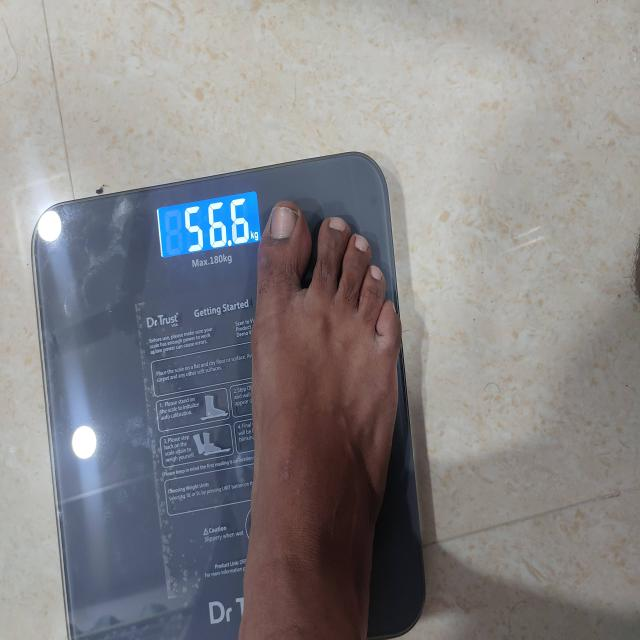ws: (30, 151, 424, 640)
